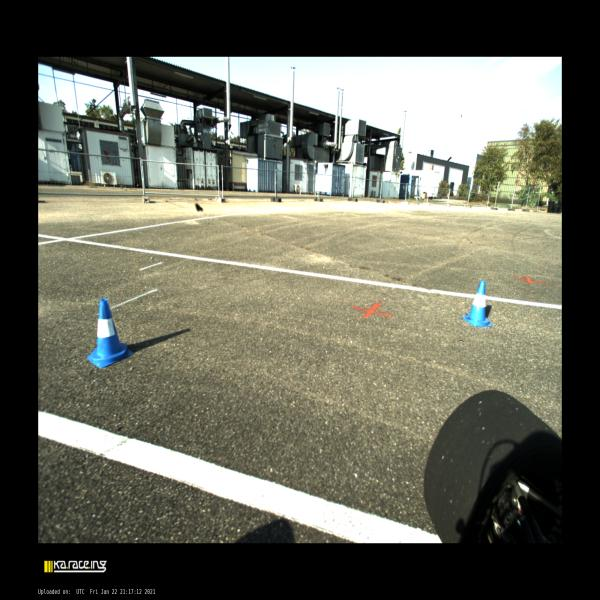blue_cone: (87, 299, 133, 368), (461, 280, 493, 326)
